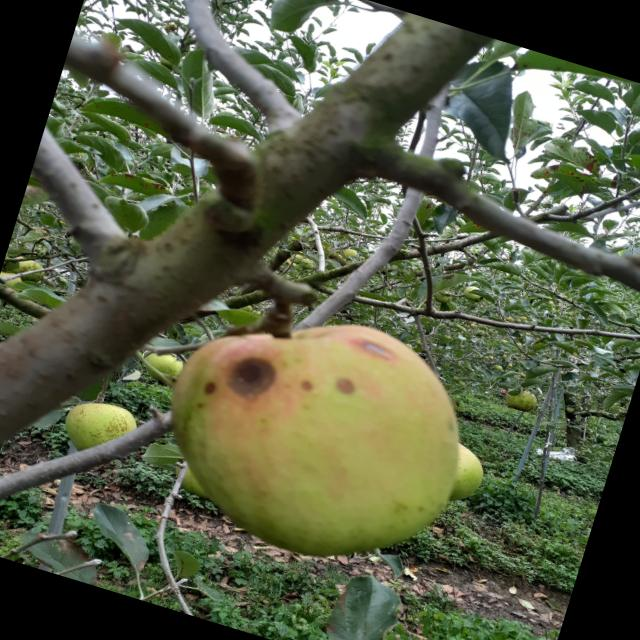rotten: (125, 266, 509, 604)
